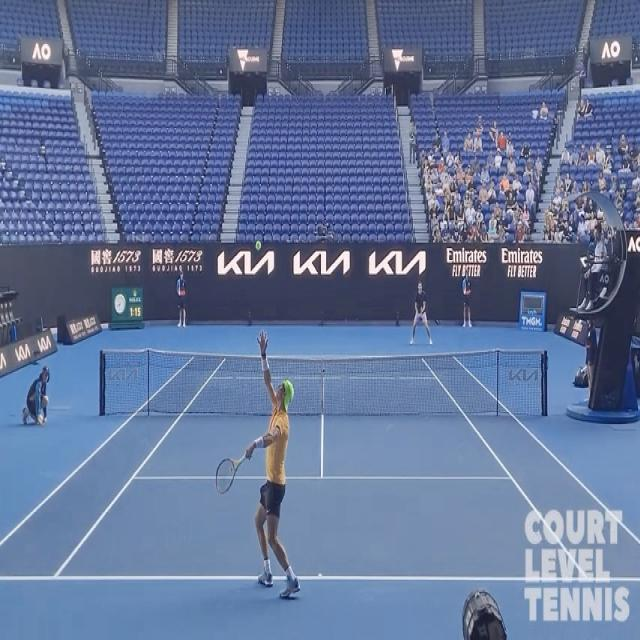serve_toss: (215, 333, 302, 605)
